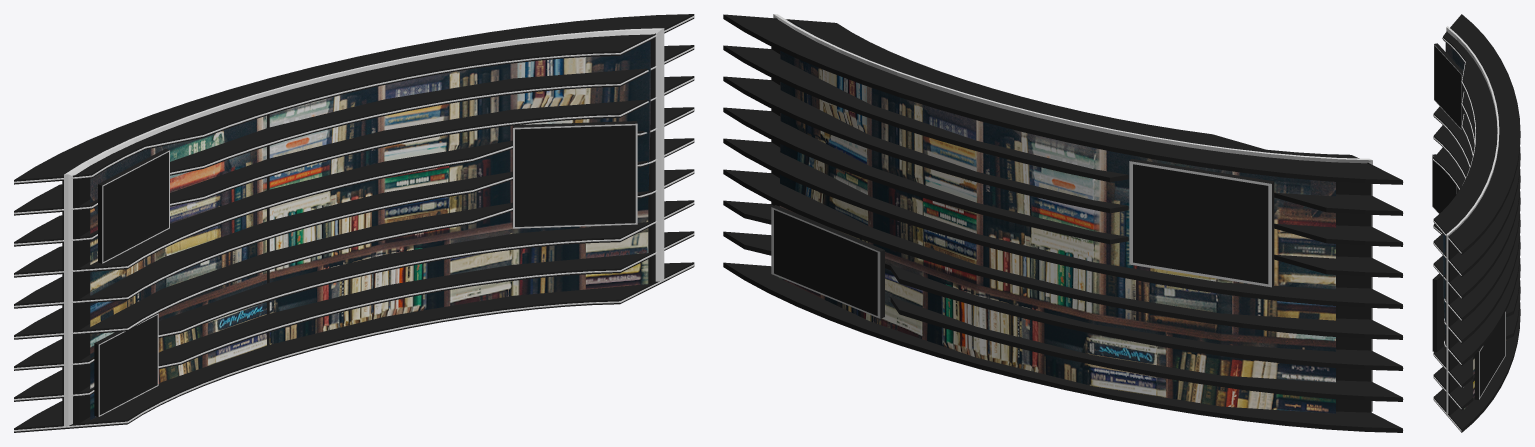
Rendered from Bookshelf_TechLab_model.fbx.
3 views of the same model, side by side, from view 1: azimuth 30°, elevation 25°; view 2: azimuth 150°, elevation 25°; view 3: azimuth 270°, elevation 25° (orthographic). The views are drawn at different scales.
Parts seen in each view (by area): view 1: Cylinder.085, Shelves1.003, Cube.048, Cylinder.087, Cylinder.086, Cylinder.088, Cube.049, Cube.052, Cube.063; view 2: Cylinder.085, Shelves1.004, Cube.062, Cube.060, Cylinder.088, Cylinder.086, Cube.073, Cube.070; view 3: Cylinder.085, Cylinder.088, Cube.049, Cube.060, Cylinder.086, Cylinder.087, Cube.048, Cube.052, Shelves1.003, Cube.064, Cube.070.
Part boxes in pixels (x1,y1,x2,y2): Cylinder.085: (14,14,694,432); Shelves1.003: (90,41,650,419); Cube.048: (512,121,637,226); Cylinder.087: (14,16,694,431); Cylinder.086: (64,28,664,426); Cylinder.088: (62,34,655,424); Cube.049: (98,148,169,263); Cube.052: (94,315,157,416); Cube.063: (513,123,637,228); Cylinder.085: (723,14,1402,432); Shelves1.004: (778,51,1335,413); Cube.062: (1130,158,1274,286); Cube.060: (772,205,884,318); Cylinder.088: (771,19,1371,412); Cylinder.086: (773,14,1372,411); Cube.073: (1129,161,1271,287); Cube.070: (771,207,880,318); Cylinder.085: (1433,14,1520,432); Cylinder.088: (1445,32,1501,415); Cube.049: (1434,43,1465,130); Cube.060: (1474,313,1505,399); Cylinder.086: (1446,26,1499,415); Cylinder.087: (1433,37,1475,431); Cube.048: (1432,273,1445,352); Cube.052: (1432,154,1459,213); Shelves1.003: (1443,43,1464,334); Cube.064: (1434,44,1461,129); Cube.070: (1479,311,1505,399).
Bounding box in the file's own units: 1151 × 414 × 180.
